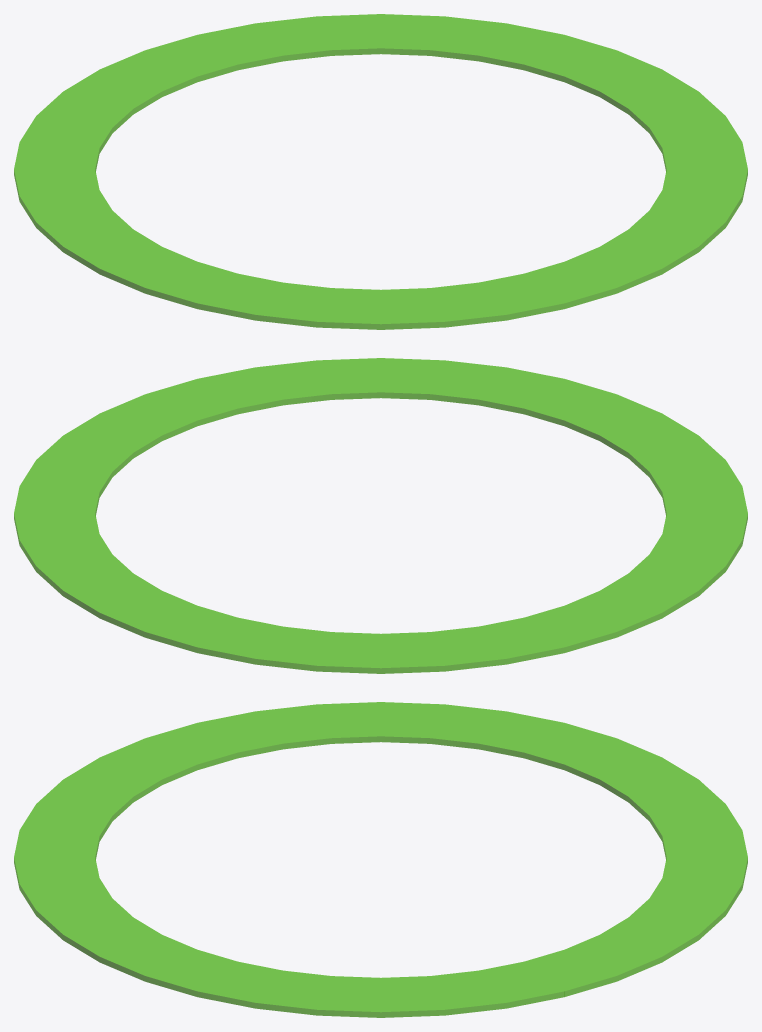
3 views of the same model, one above another, from view 1: azimuth 30°, elevation 25°; view 2: azimuth 150°, elevation 25°; view 3: azimuth 270°, elevation 25° (orthographic).
Parts seen in each view (by area): view 1: Model; view 2: Model; view 3: Model.
Boxes of the visible parts, x1,y1,x2,y2 form: Model: [14, 14, 747, 329]; Model: [14, 358, 747, 673]; Model: [14, 702, 747, 1017].
Bounding box in the file's own units: 6.32 × 0.055 × 6.32.
